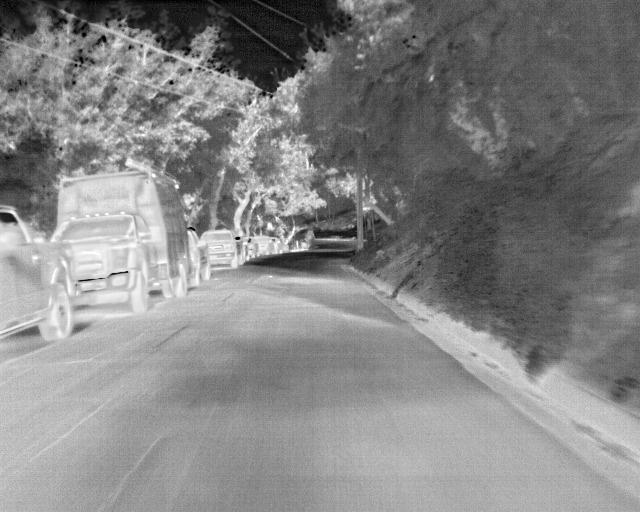car: (0, 201, 75, 342), (210, 230, 247, 267), (188, 227, 210, 287), (243, 236, 259, 259), (257, 235, 273, 257), (273, 236, 290, 254)
